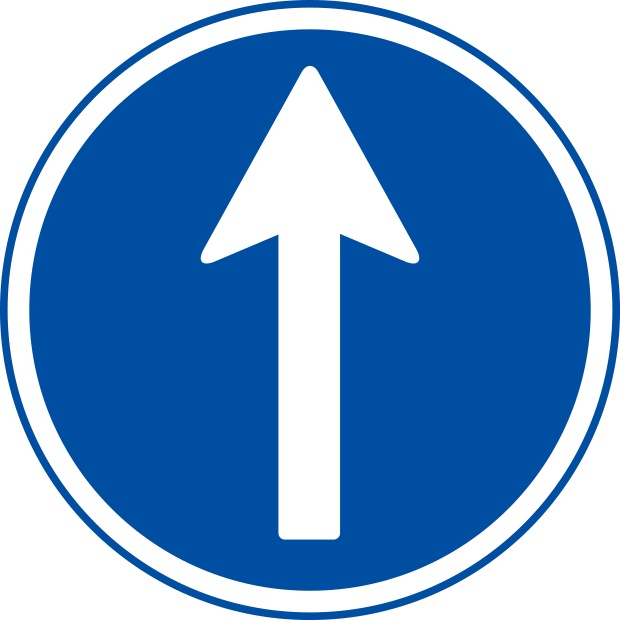Direction_sign: (7, 5, 620, 615)
